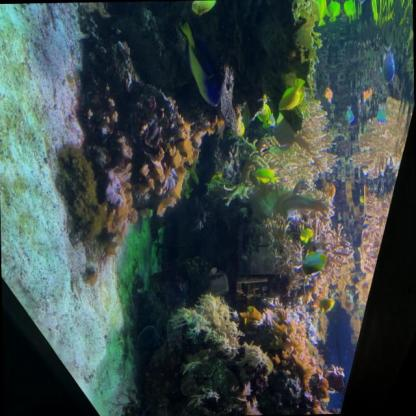fish: (176, 15, 226, 107), (278, 77, 304, 111), (301, 249, 329, 278), (379, 42, 395, 85), (207, 267, 228, 297), (190, 0, 223, 19), (311, 0, 329, 30), (252, 166, 278, 186), (316, 295, 336, 314), (326, 0, 341, 23), (258, 102, 271, 128), (343, 0, 356, 20), (236, 119, 248, 140), (300, 226, 314, 244), (344, 103, 355, 124), (322, 86, 334, 105), (375, 104, 387, 122), (353, 0, 370, 5)
